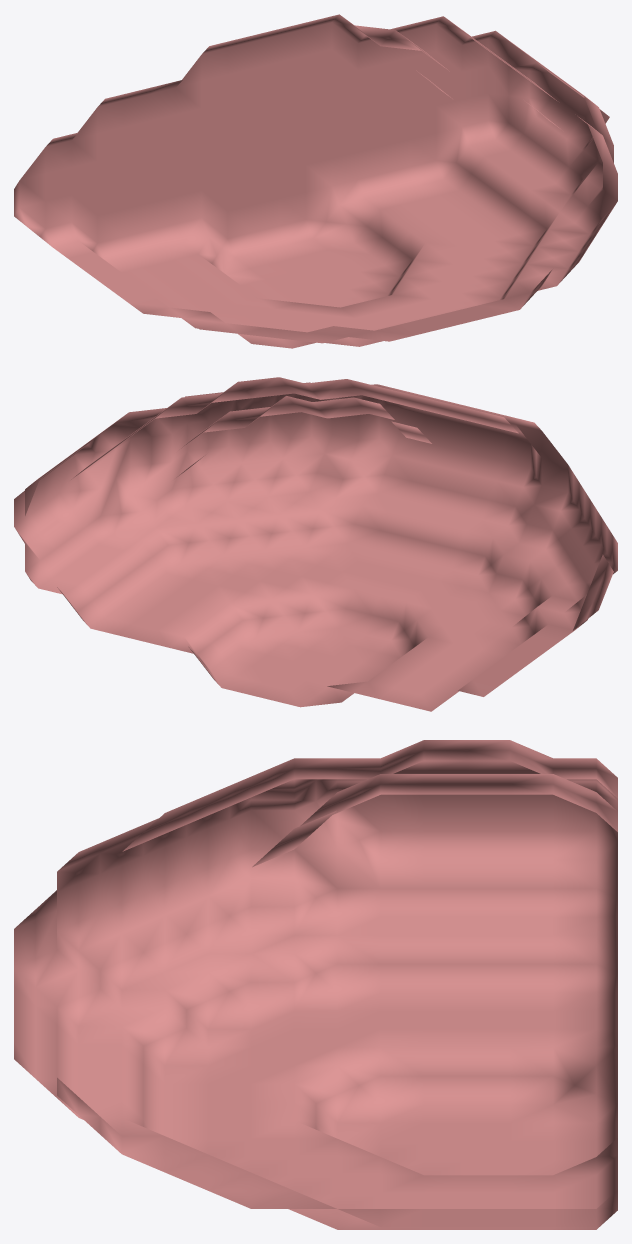
Rendered from 239532_occ.glb.
3 views of the same model, one above another, from view 1: azimuth 30°, elevation 25°; view 2: azimuth 150°, elevation 25°; view 3: azimuth 270°, elevation 25° (orthographic). The views are drawn at different scales.
Visible parts, largest first — view 1: world; view 2: world; view 3: world.
Part boxes in pixels (bbox=[...]): world: bbox=[14, 14, 617, 348]; world: bbox=[14, 377, 617, 711]; world: bbox=[14, 740, 617, 1229].
Size of the model in its own units: 2 by 0.8 by 1.4.
